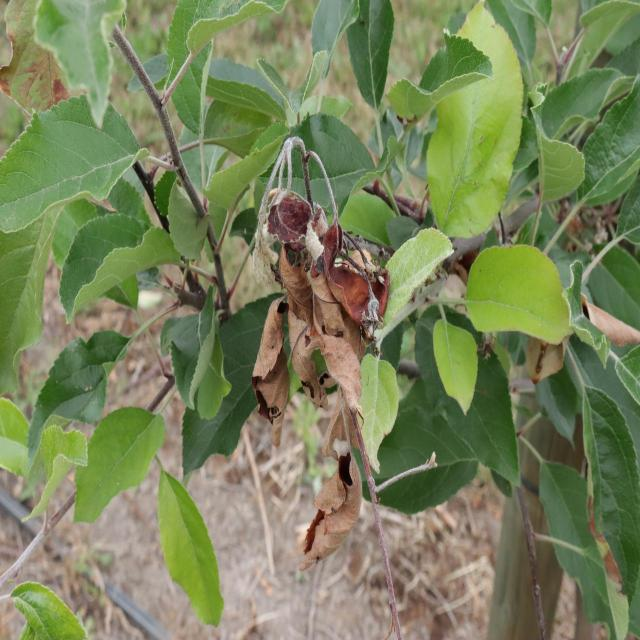-FireBlight-: (264, 174, 378, 548)
